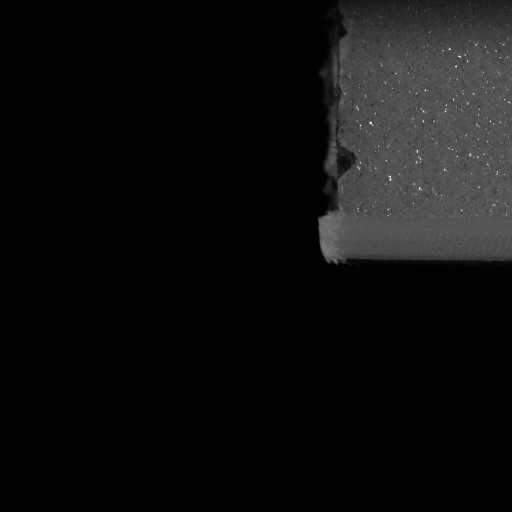bengque: (328, 142, 363, 185)
